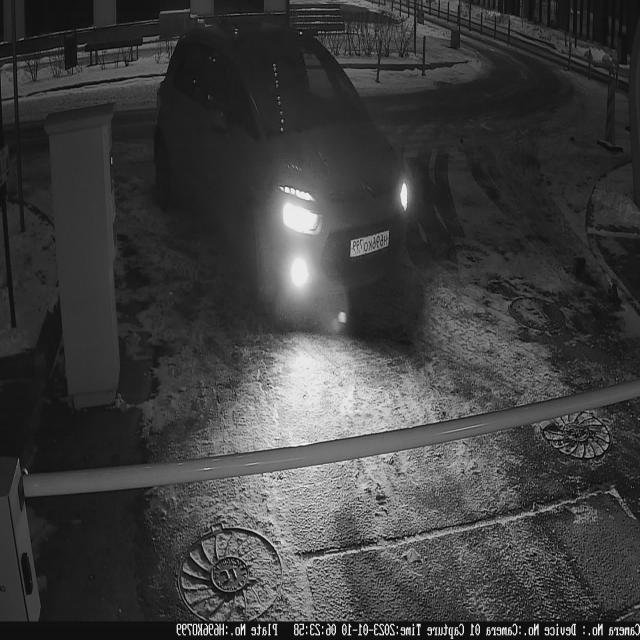car-plate-numbers: (349, 228, 392, 260)
